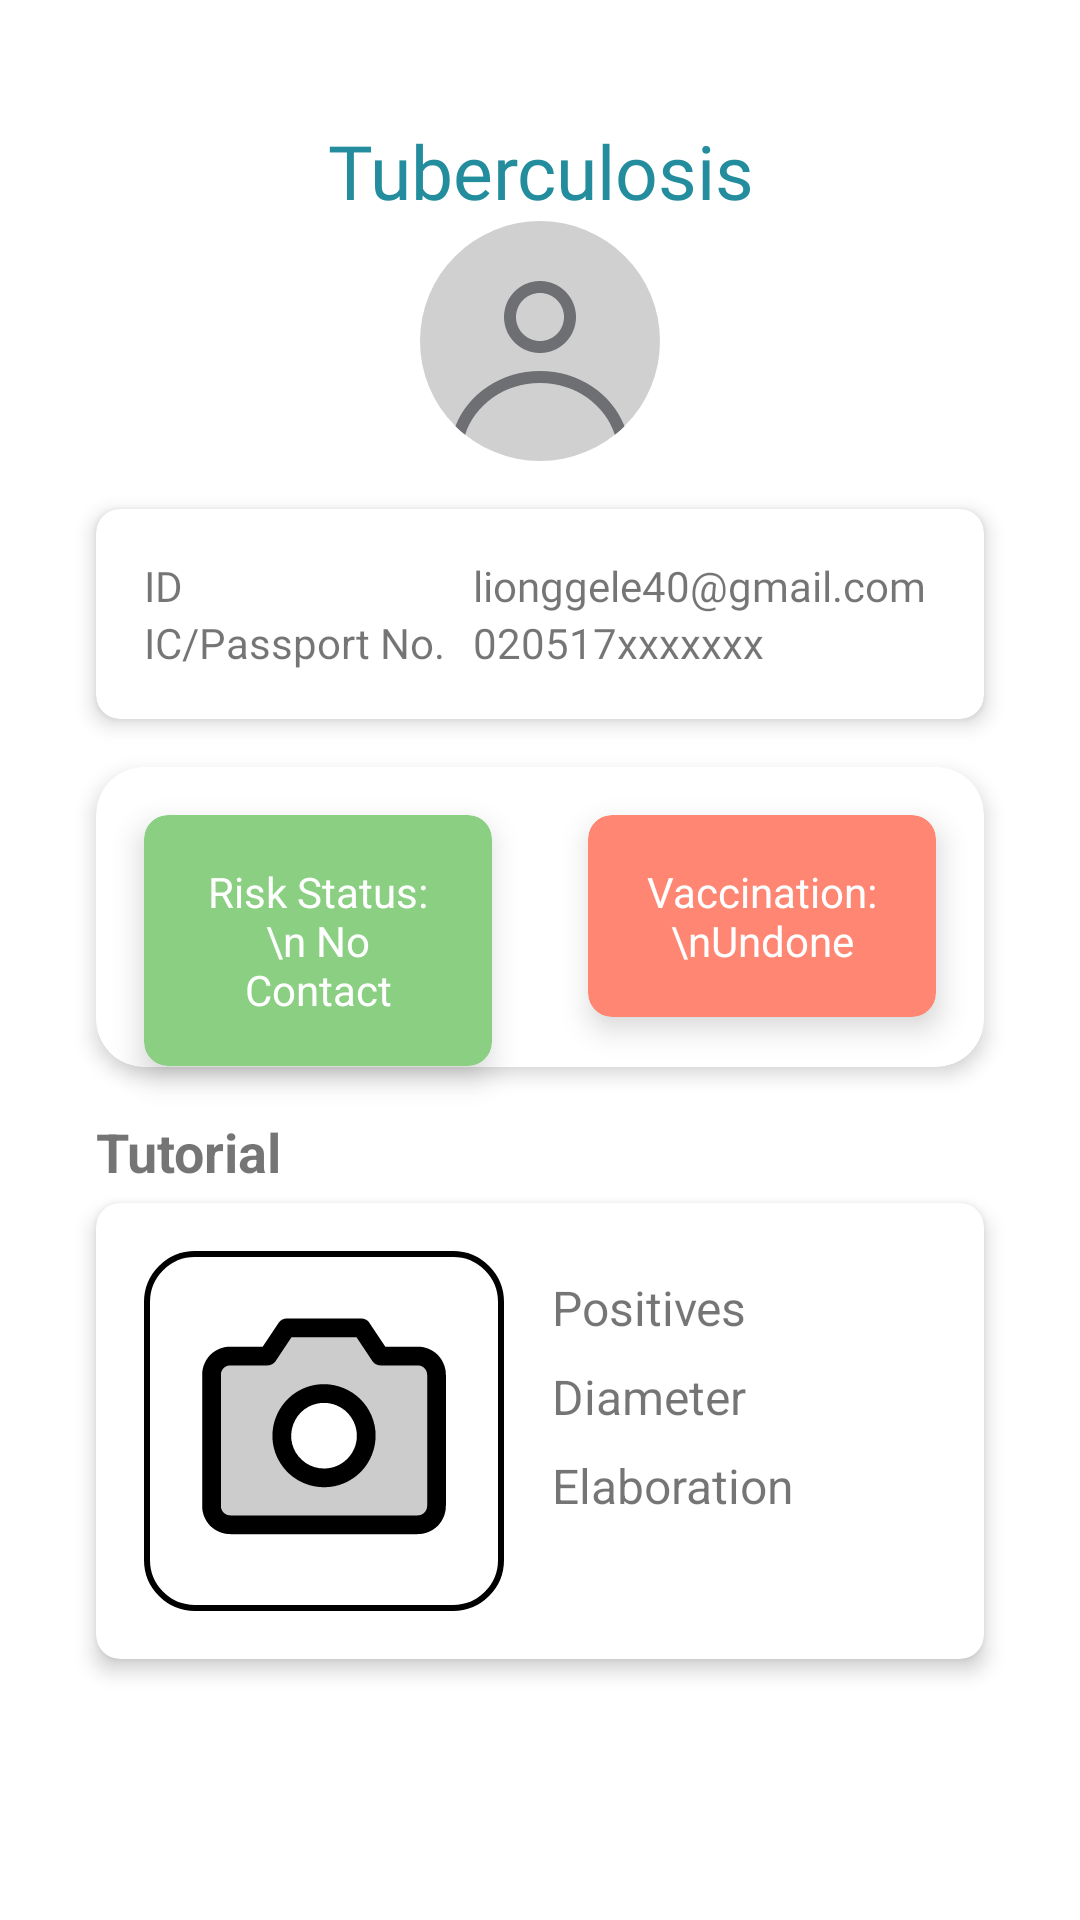

Point at icon controls on the screen. Image size 1080 x 1920, points as (x,y).
camera: (324,1431)
profile picture: (540,341)
